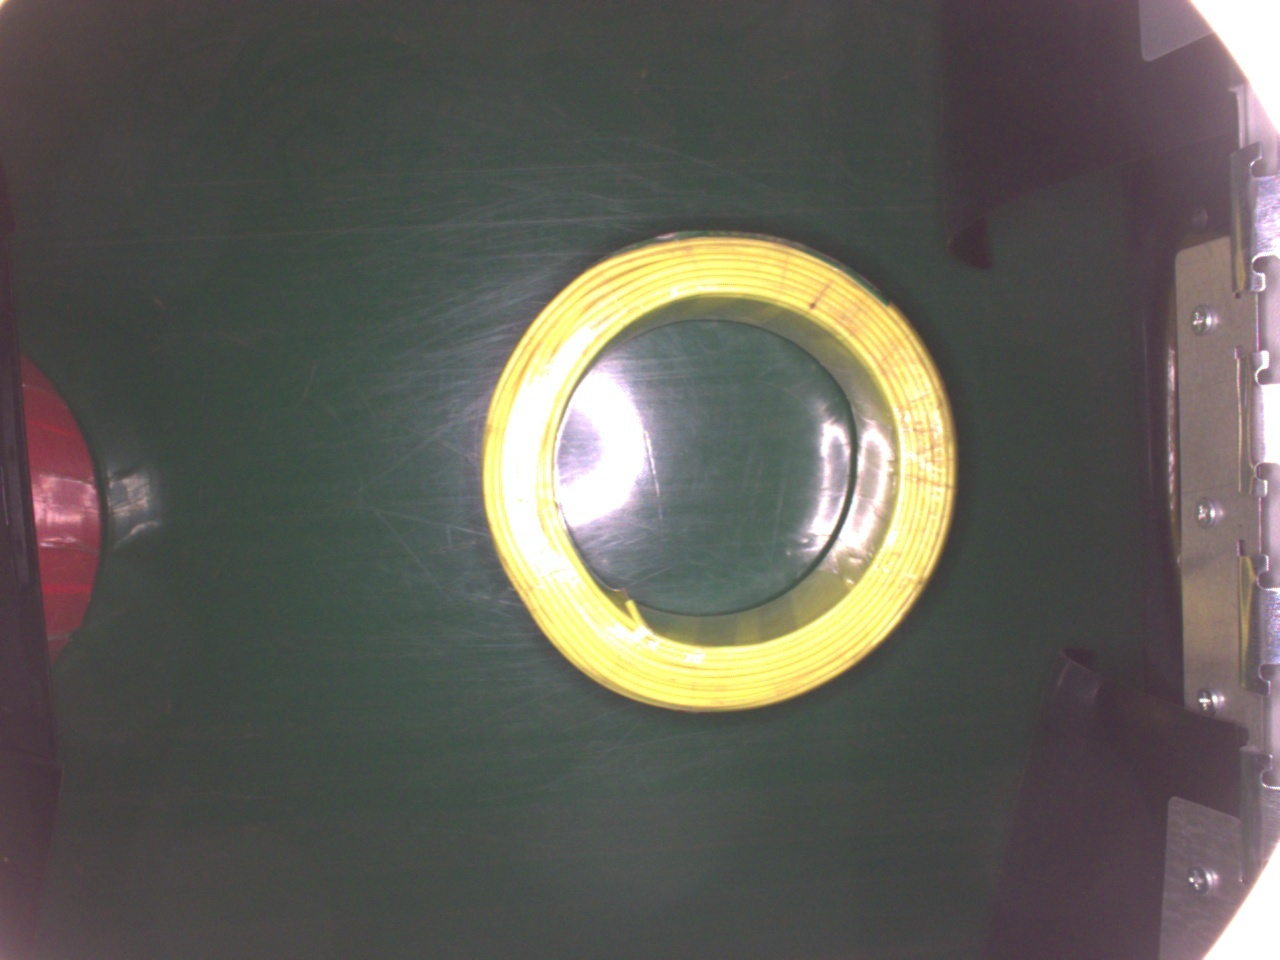yellow: (474, 224, 967, 718)
